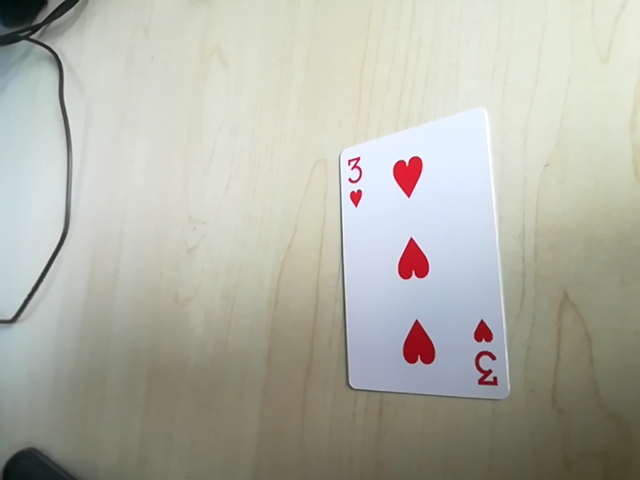hx 3: (468, 334, 508, 391), (335, 148, 368, 208)
